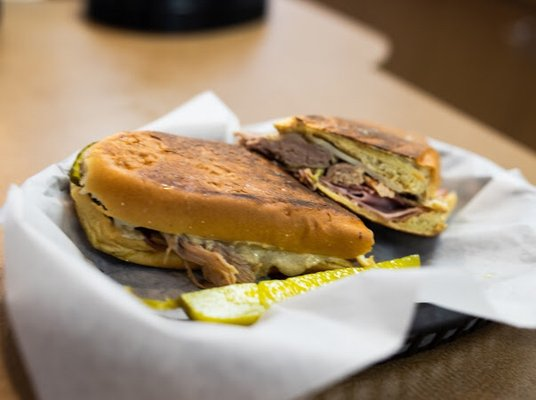soup: (68, 132, 376, 286), (239, 114, 459, 236)
